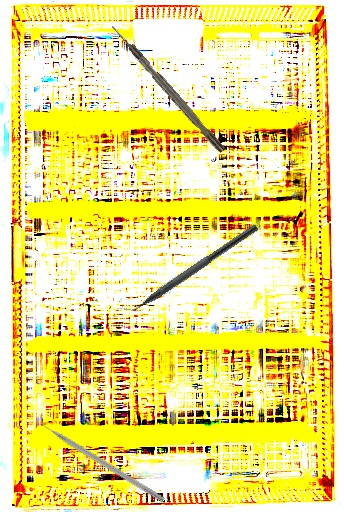Chopper: (115, 213, 260, 324), (33, 411, 170, 503)
Hook Surgical: (109, 22, 226, 155)
